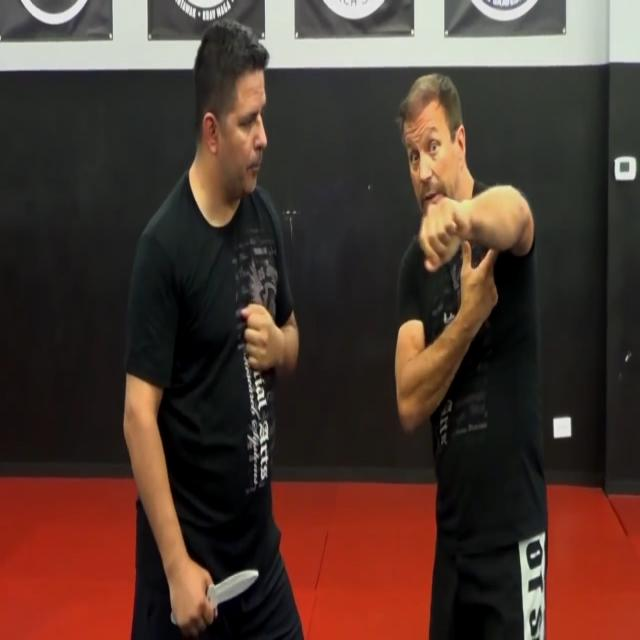knife: (171, 564, 263, 630)
